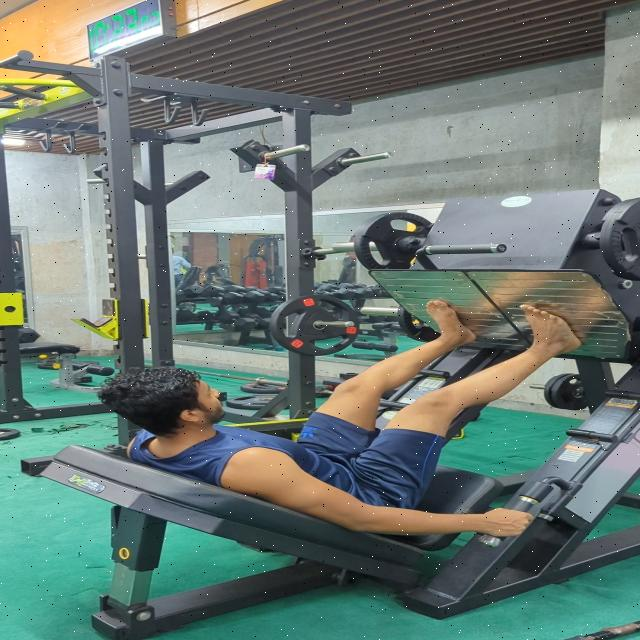Normal_LegPress: (92, 290, 595, 543)
